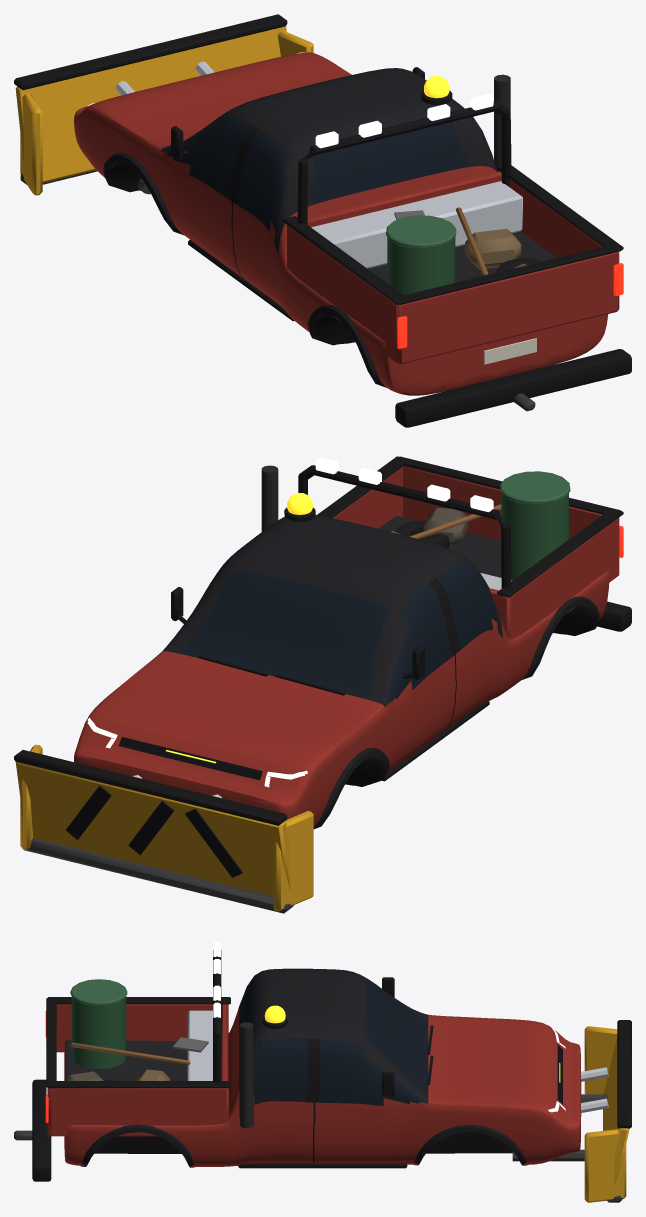
Rendered from car_shovelhead.glb.
3 renders of one model, top to bottom at view 1: azimuth 30°, elevation 25°; view 2: azimuth 150°, elevation 25°; view 3: azimuth 270°, elevation 25°, orthographic. The views are drawn at different scales.
Parts seen in each view (by area): view 1: parts, body, lips; view 2: body, parts, lips, strip0; view 3: body, parts, lips.
Boxes of the visible parts, left/top/right/bottom form: parts: left=14, top=14, right=631, bottom=427; body: left=74, top=52, right=608, bottom=395; lips: left=103, top=153, right=386, bottom=387; body: left=74, top=515, right=609, bottom=827; parts: left=14, top=456, right=631, bottom=913; lips: left=313, top=596, right=599, bottom=828; strip0: left=118, top=737, right=262, bottom=780; body: left=64, top=968, right=581, bottom=1166; parts: left=14, top=942, right=631, bottom=1202; lips: left=81, top=1124, right=527, bottom=1167.
Size of the model in its own units: 2.47 by 1.84 by 5.85.
